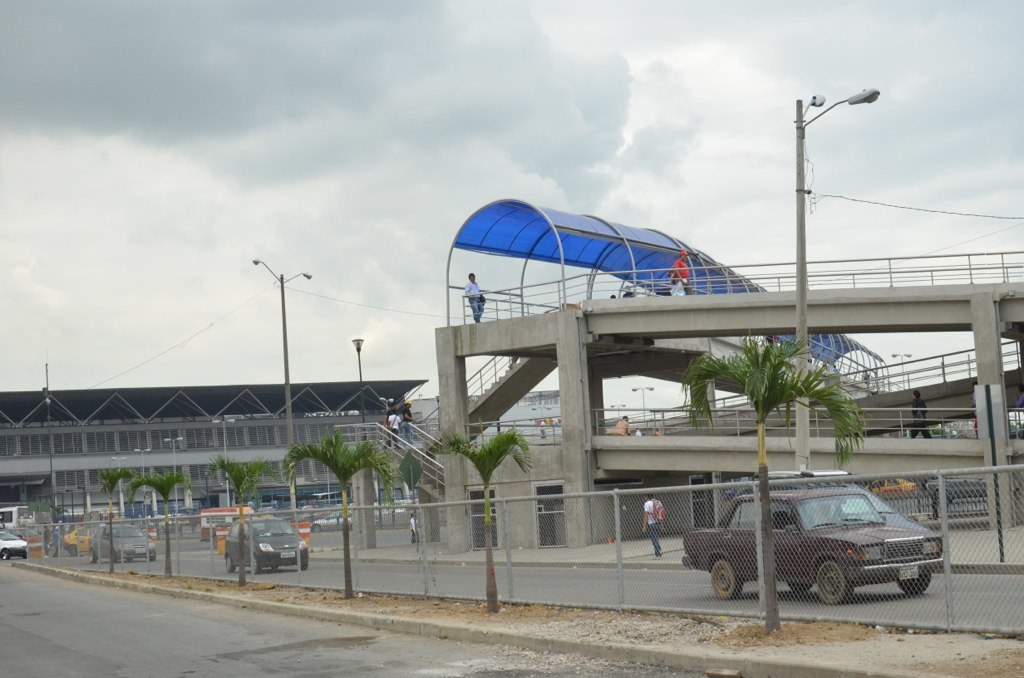Car: (682, 469, 949, 602), (225, 512, 312, 573), (97, 517, 158, 559), (69, 517, 103, 562), (0, 534, 30, 557)
